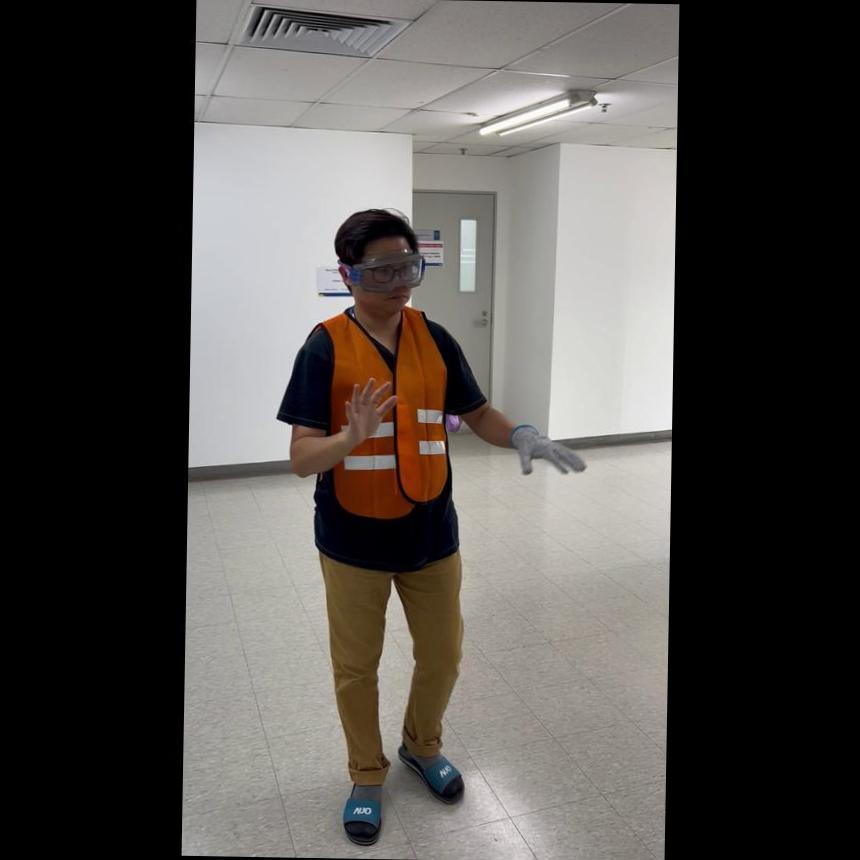Gloves: (504, 416, 585, 480)
No-gloves: (334, 370, 403, 450)
